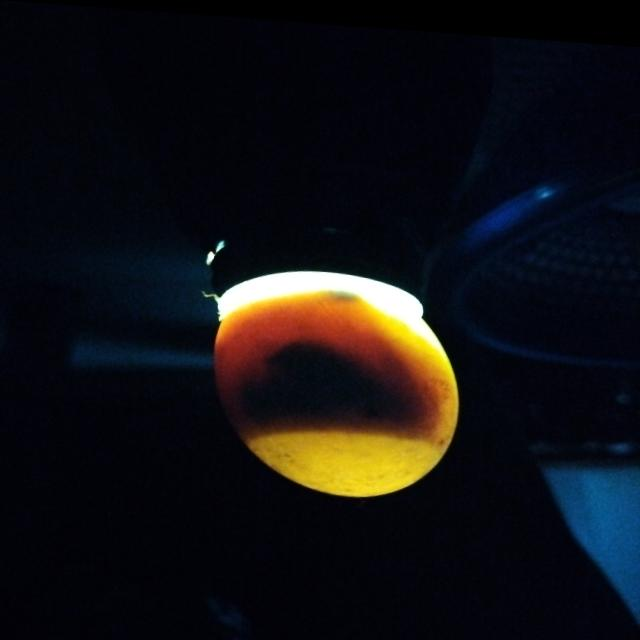Area Infectada: (223, 337, 423, 436)
